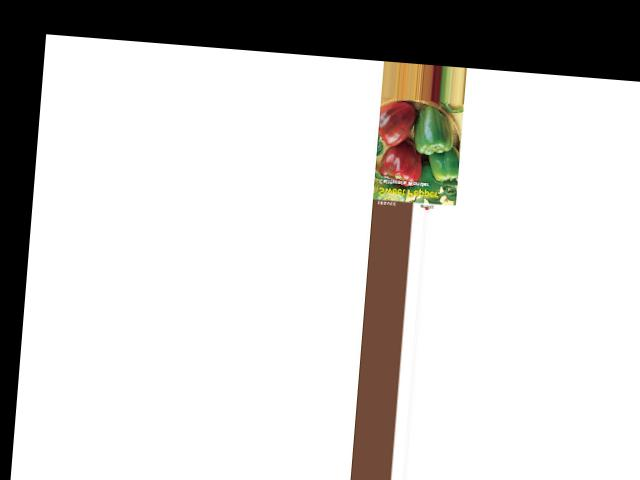bell_pepper: (430, 139, 462, 185)
